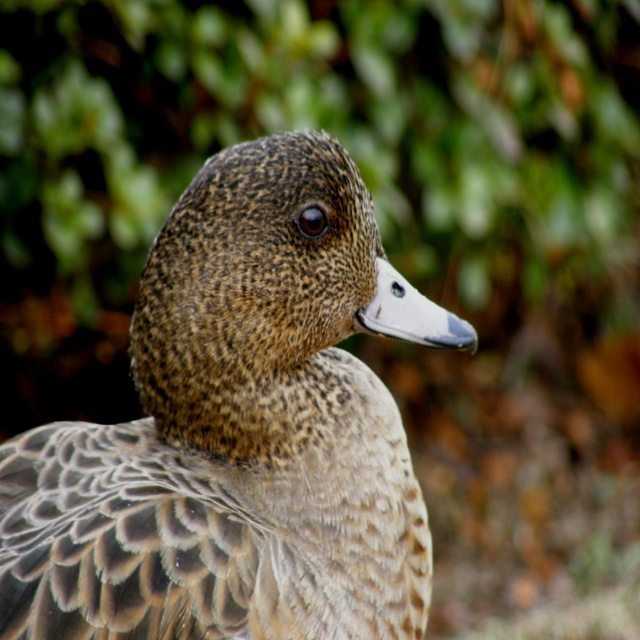Goose: (0, 126, 478, 639)
